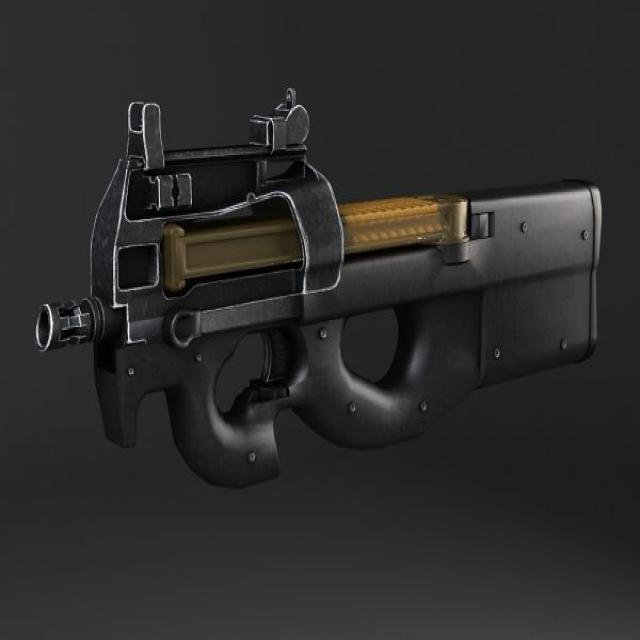SMG: (32, 88, 606, 491)
